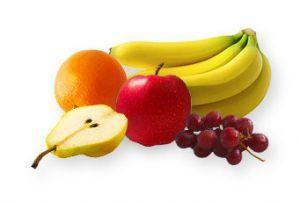apple: (113, 72, 192, 147)
